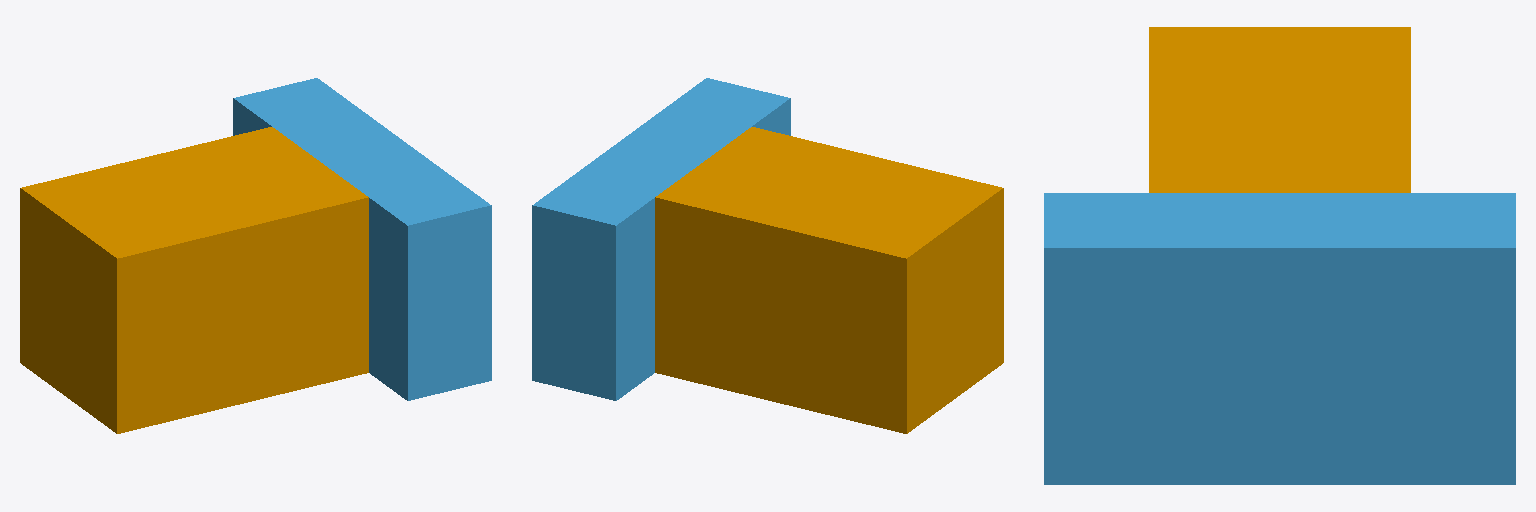
URDF robot description (tetris1.urdf):
<?xml version="1.0" ?>
<robot name="tetris1.urdf">
  <link name="center">
    <contact>
      <lateral_friction value="1.0"/>
      <rolling_friction value="0.0"/>
      <contact_cfm value="0.0"/>
      <contact_erp value="1.0"/>
    </contact>
    <inertial>
      <origin rpy="0 0 0" xyz="0.0 0.02 0.0"/>
       <mass value="0.08"/>
       <inertia ixx="1" ixy="0" ixz="0" iyy="2" iyz="0" izz="2"/>
    </inertial>
    <visual>
      <origin rpy="0 0 0" xyz="0 0 0"/>
      <geometry>
        <box size="1.5 1 1"/>
      </geometry>
    </visual>
    <collision>
      <origin rpy="0 0 0" xyz="0 0 0"/>
      <geometry>
        <box size="1.5 1 1"/>
      </geometry>
    </collision>
  </link>
  <link name="top">
    <contact>
      <lateral_friction value="1.0"/>
      <rolling_friction value="0.0"/>
      <contact_cfm value="0.0"/>
      <contact_erp value="1.0"/>
    </contact>
    <inertial>
      <origin rpy="0 0 0" xyz="0.0 0.0 0.0"/>
       <mass value="0.02"/>
       <inertia ixx="1" ixy="0" ixz="0" iyy="2" iyz="0" izz="2"/>
    </inertial>
    <visual>
      <origin rpy="0 0 0" xyz="0 0 0"/>
      <geometry>
        <box size="0.5 1.8 1"/>
      </geometry>
    </visual>
    <collision>
      <origin rpy="0 0 0" xyz="0 0 0"/>
      <geometry>
        <box size="0.5 1.8 1"/>
      </geometry>
    </collision>
  </link>
  <joint name="fixed1" type="fixed">
    <origin rpy="0 0 0" xyz="1 0 0"/>
    <parent link="center"/>
    <child link="top"/>
    <axis xyz="0 0 1"/>
  </joint>
</robot>

--- Render facts (derived) ---
3 views of the same robot in one strip: view 1: azimuth 30°, elevation 25°; view 2: azimuth 150°, elevation 25°; view 3: azimuth 270°, elevation 25° (orthographic).
Model tetris1.urdf with 2 links and 1 joints (1 fixed), rooted at center, posed all joints at 0.
Visible links, largest first — view 1: center, top; view 2: center, top; view 3: top, center.
Link boxes in pixels (x1,y1,x2,y2): center: [20, 127, 368, 433]; top: [233, 78, 491, 400]; center: [655, 127, 1003, 433]; top: [532, 78, 790, 400]; top: [1044, 193, 1515, 484]; center: [1149, 27, 1410, 192].
Bounding box of the posed robot: 2 × 1.8 × 1 m (x, y, z).
Geometry: primitives only (box / cylinder / sphere), no mesh files.